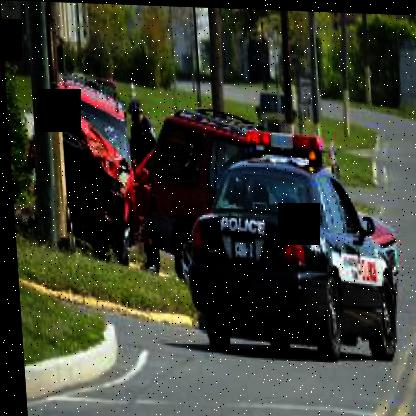emergency: (180, 122, 415, 393)
